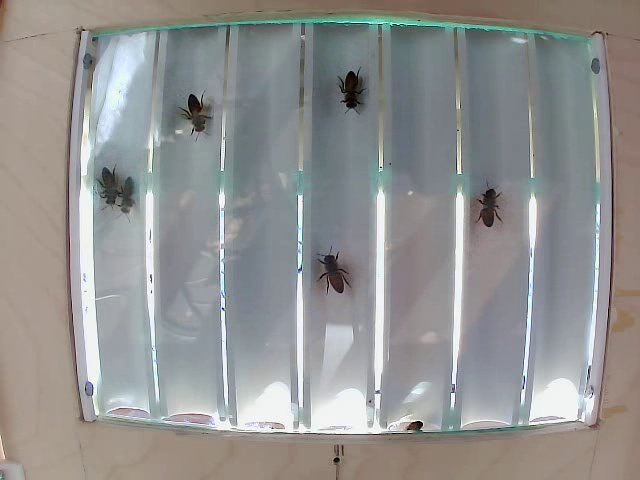bee: (172, 93, 223, 140), (330, 64, 375, 117), (312, 250, 356, 301), (463, 189, 509, 232), (89, 164, 128, 202)
